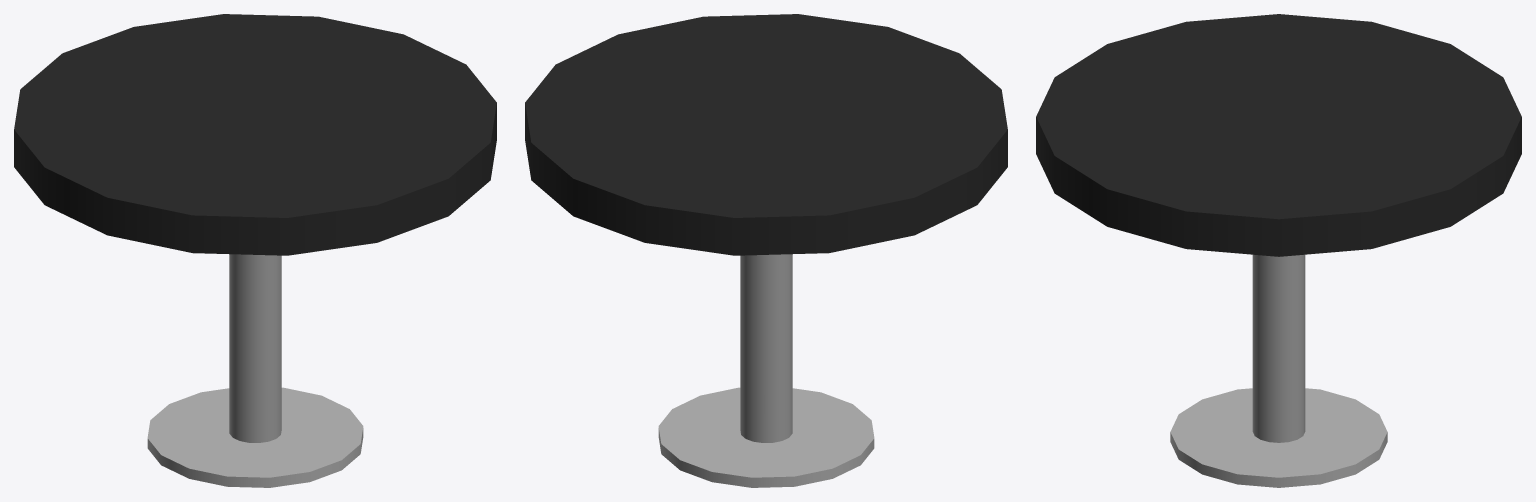
File: SM_Table_01.fbx
3 renders of one model, left to right at view 1: azimuth 30°, elevation 25°; view 2: azimuth 150°, elevation 25°; view 3: azimuth 270°, elevation 25°, orthographic.
Parts seen in each view (by area): view 1: Table; view 2: Table; view 3: Table.
Boxes of the visible parts, <box> form: Table: <box>14,14,496,487</box>; Table: <box>525,14,1007,487</box>; Table: <box>1036,14,1521,487</box>.
Size of the model in its own units: 307 by 227 by 307.
